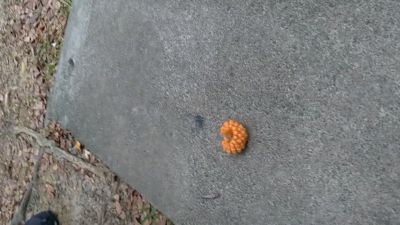eggs: (219, 119, 249, 157)
